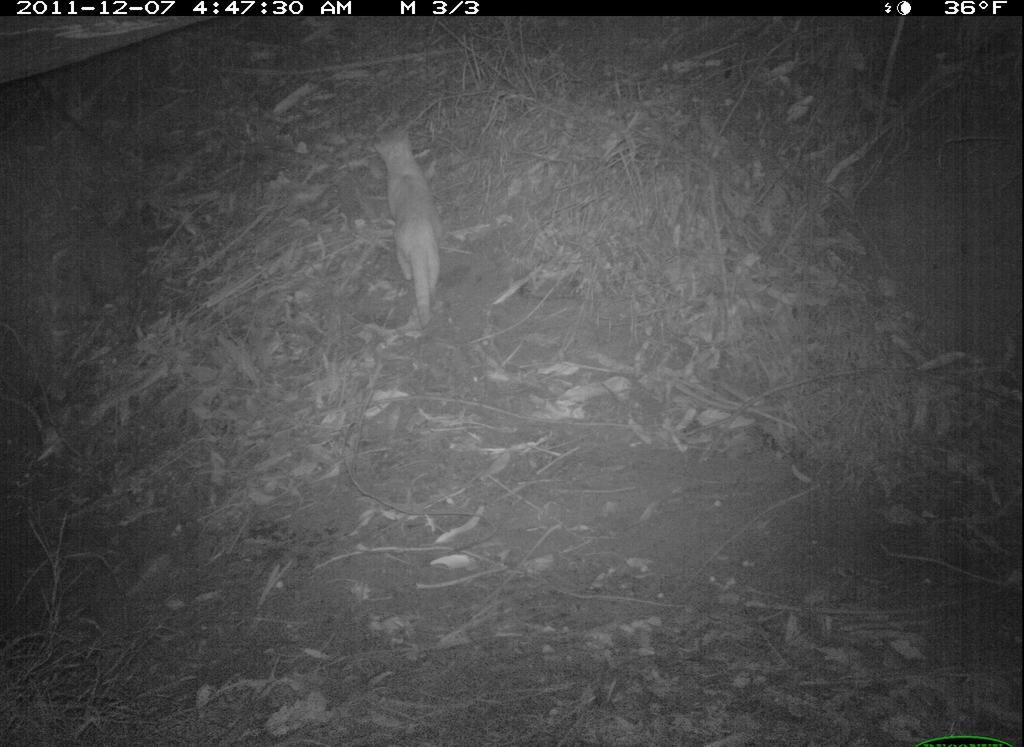cat: (361, 117, 464, 333)
